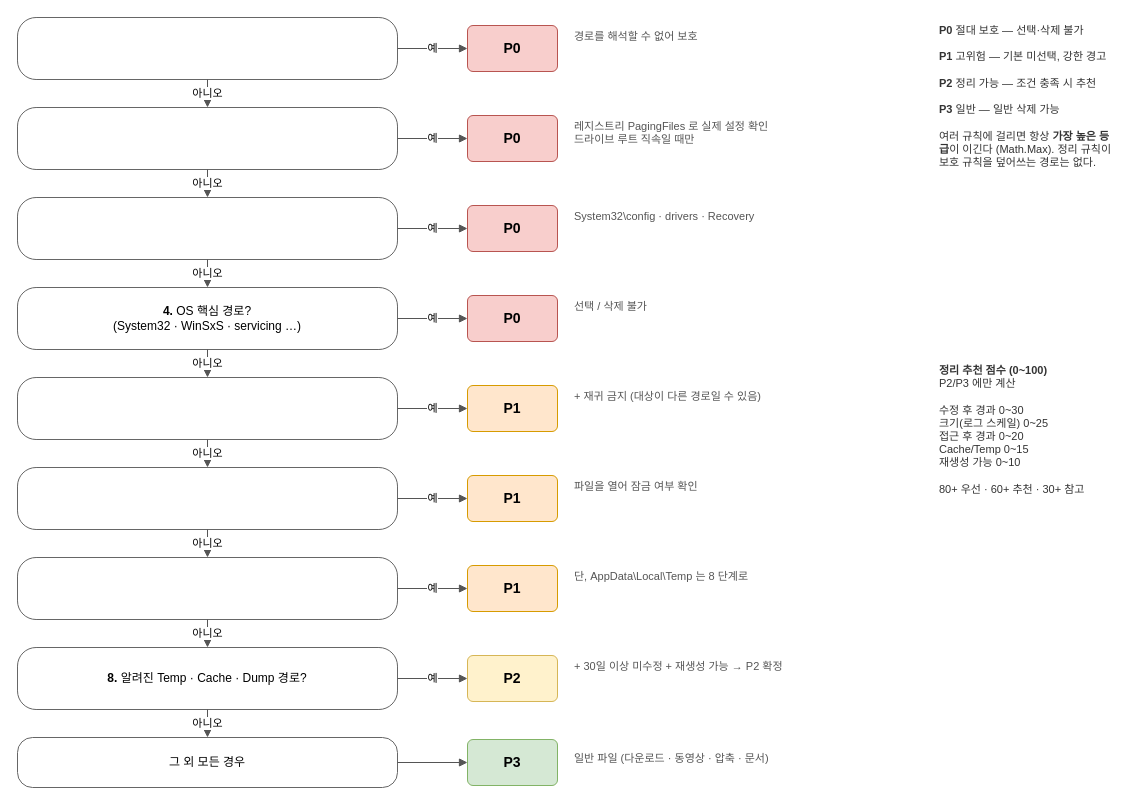
The diagram is 1135 pixels wide and 805 high, and some of its shapes have lost their labels. The centre of each missing label's shape, as x and y in pixels:
1. 경로 정규화 실패?: the point at 207,48
2. 시스템 핵심 파일? (pagefile · hiberfil · bootmgr · BCD): the point at 207,138
3. 부팅 · 레지스트리 · 드라이버 · 복구 영역?: the point at 207,228
5. Reparse Point? (Junction · SymLink): the point at 207,408
6. 현재 사용 중? (삭제 직전 재검증에서만): the point at 207,498
7. Windows · Program Files · ProgramData · AppData?: the point at 207,588
